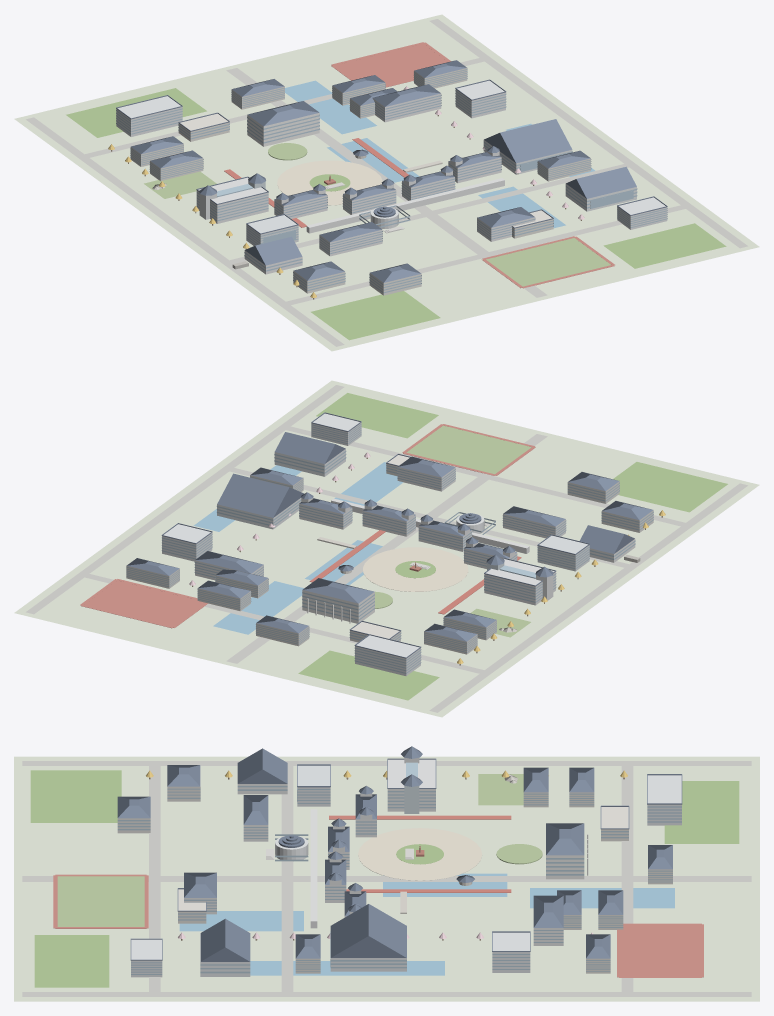
File: campus_layout.glb
3 renders of one model, top to bottom at view 1: azimuth 30°, elevation 25°; view 2: azimuth 150°, elevation 25°; view 3: azimuth 270°, elevation 25°, orthographic. The views are drawn at different scales.
Visible parts, largest first — view 1: 方山校区布局模型（按实拍优化）; view 2: 方山校区布局模型（按实拍优化）; view 3: 方山校区布局模型（按实拍优化）.
Part boxes in pixels (left/top/right/bottom): 方山校区布局模型（按实拍优化）: left=14, top=14, right=759, bottom=351; 方山校区布局模型（按实拍优化）: left=14, top=380, right=759, bottom=717; 方山校区布局模型（按实拍优化）: left=14, top=746, right=759, bottom=1001.
Bounding box in the file's own units: 700 × 48.64 × 900.
